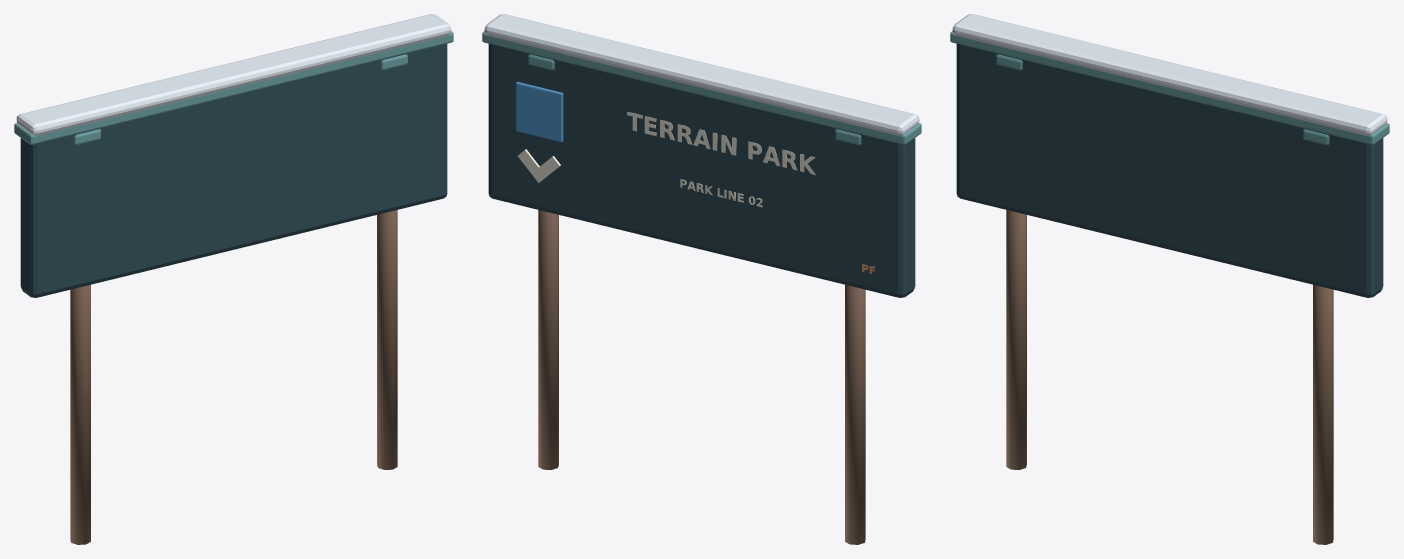
Rendered from SignPark.fbx.
3 views of the same model, side by side, from view 1: azimuth 30°, elevation 25°; view 2: azimuth 150°, elevation 25°; view 3: azimuth 330°, elevation 25° (orthographic).
Visible parts, largest first — view 1: Visual_SignPark; view 2: Visual_SignPark; view 3: Visual_SignPark.
Part boxes in pixels (left/top/right/bottom): Visual_SignPark: left=14, top=14, right=453, bottom=544; Visual_SignPark: left=482, top=14, right=921, bottom=544; Visual_SignPark: left=950, top=14, right=1389, bottom=544.
Size of what is drawn, in the model's own units: 3.4 by 3.32 by 0.268.
